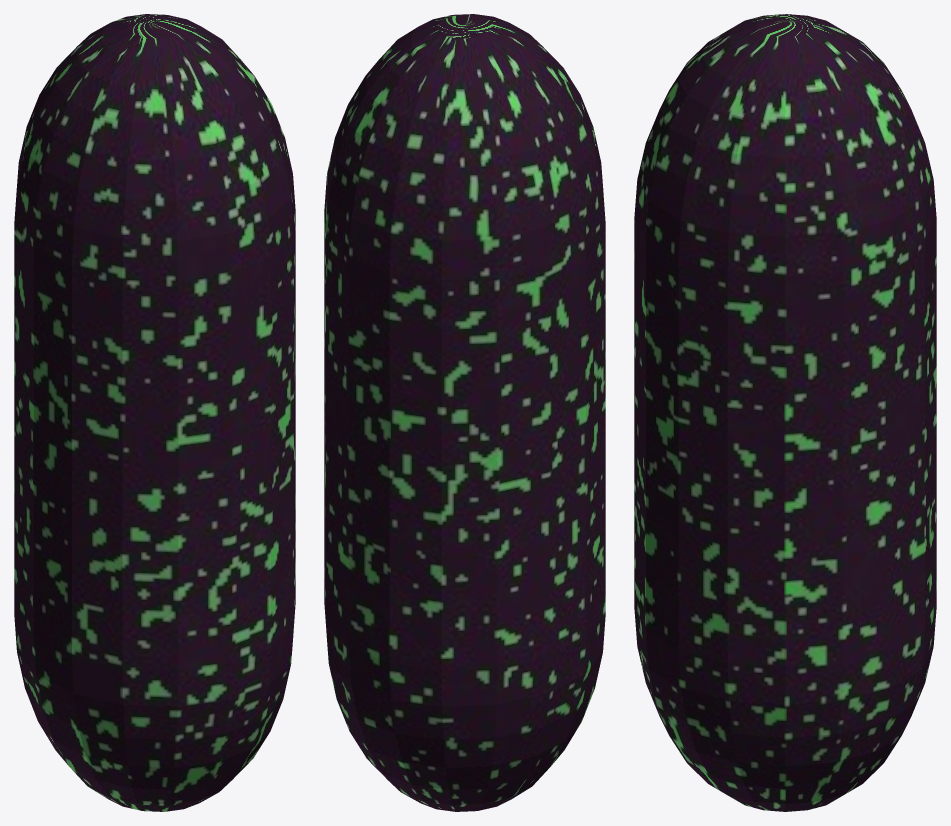
The picture shows the model from 3 angles, left to right: view 1: azimuth 30°, elevation 25°; view 2: azimuth 150°, elevation 25°; view 3: azimuth 270°, elevation 25°; orthographic projection.
Parts seen in each view (by area): view 1: geometry_0; view 2: geometry_0; view 3: geometry_0.
Boxes of the visible parts, x1=… form: geometry_0: x1=14, y1=14, x2=295, y2=811; geometry_0: x1=324, y1=14, x2=605, y2=811; geometry_0: x1=634, y1=14, x2=936, y2=811.
Size of the model in its own units: 0.3644 by 1.12 by 0.3924.
Materials: 1 (1 with a texture image).
